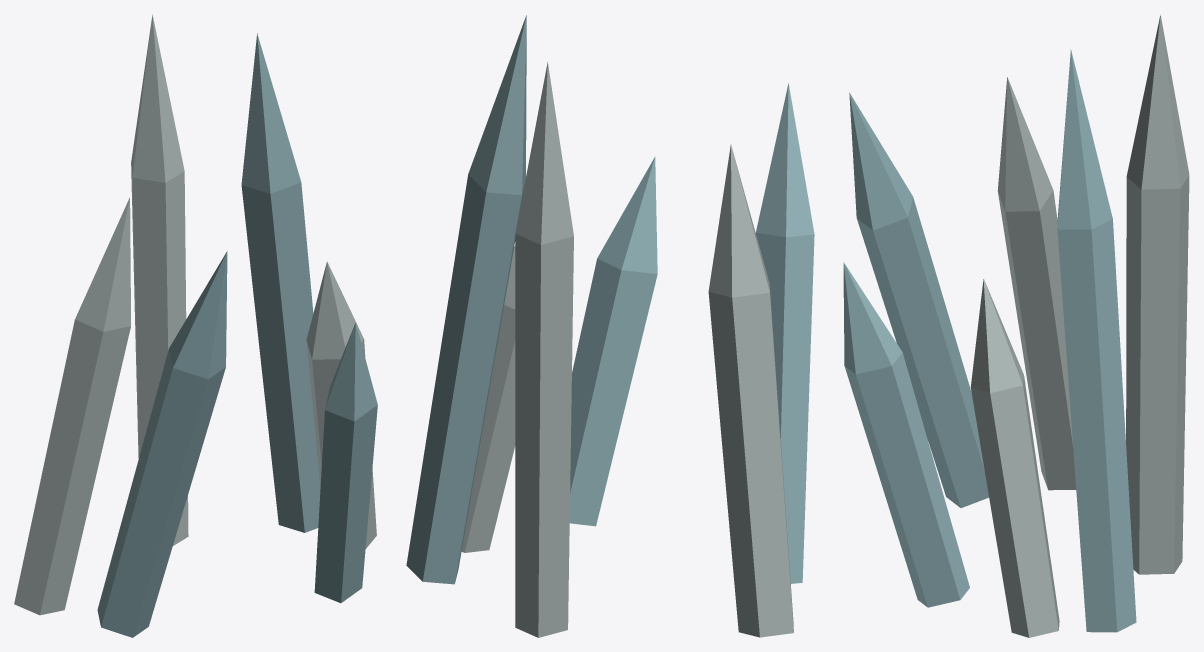
File: plant-iceNeedles.glb
3 renders of one model, left to right at view 1: azimuth 30°, elevation 25°; view 2: azimuth 150°, elevation 25°; view 3: azimuth 270°, elevation 25°, orthographic. The views are drawn at different scales.
Parts seen in each view (by area): view 1: plant-iceNeedles; view 2: plant-iceNeedles; view 3: plant-iceNeedles.
Boxes of the visible parts, x1=… form: plant-iceNeedles: x1=14, y1=14, x2=377, y2=637; plant-iceNeedles: x1=406, y1=15, x2=814, y2=637; plant-iceNeedles: x1=843, y1=14, x2=1189, y2=637.
Bounding box in the file's own units: 0.566 × 0.8217 × 0.4692.
